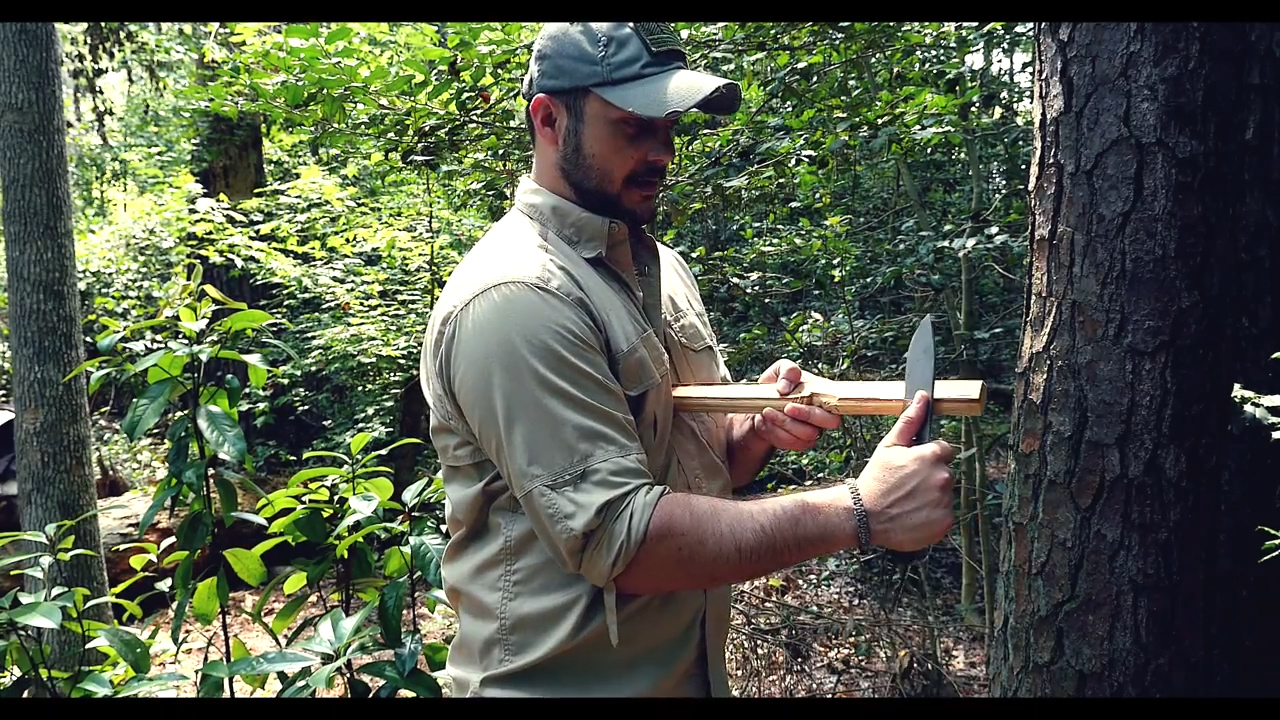knife: (879, 308, 957, 517)
